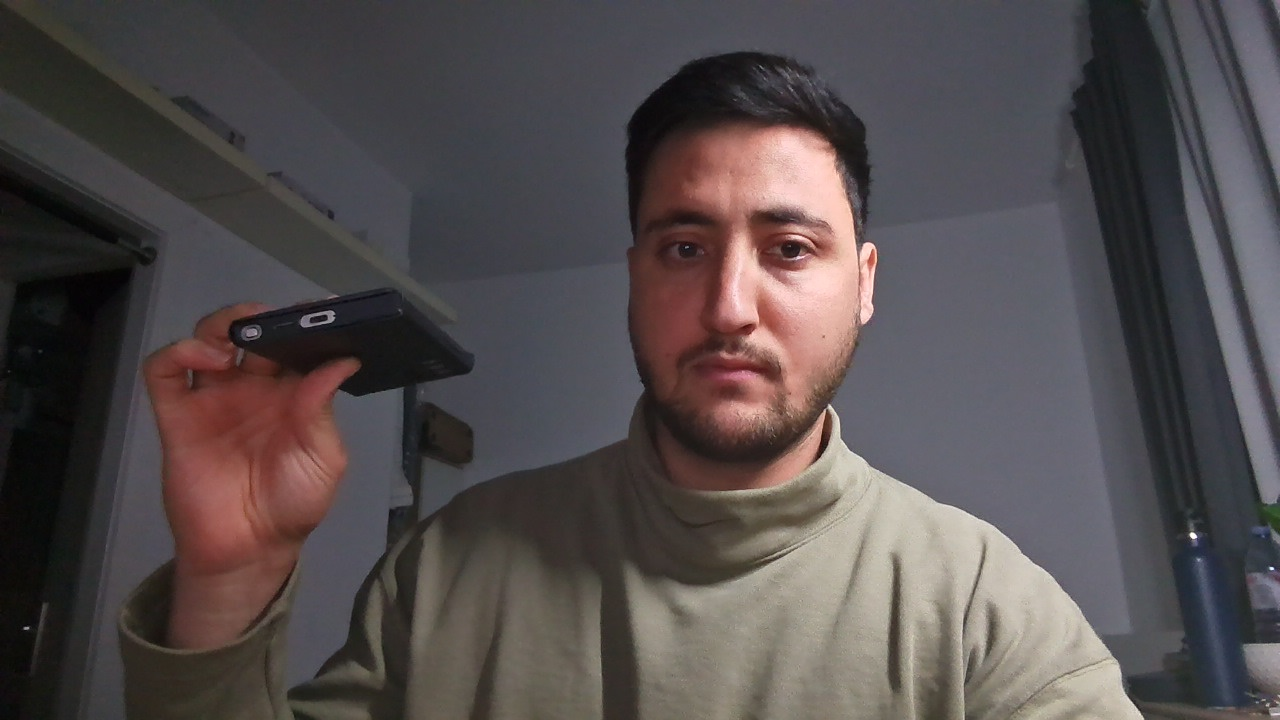Handy: (207, 263, 480, 409)
Wasserflasche: (1150, 490, 1263, 720)
me: (601, 28, 914, 480)
